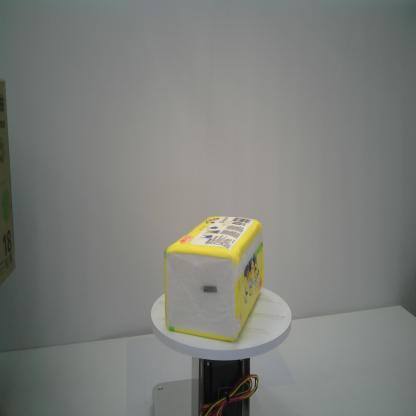Tissue: (164, 215, 264, 341)
